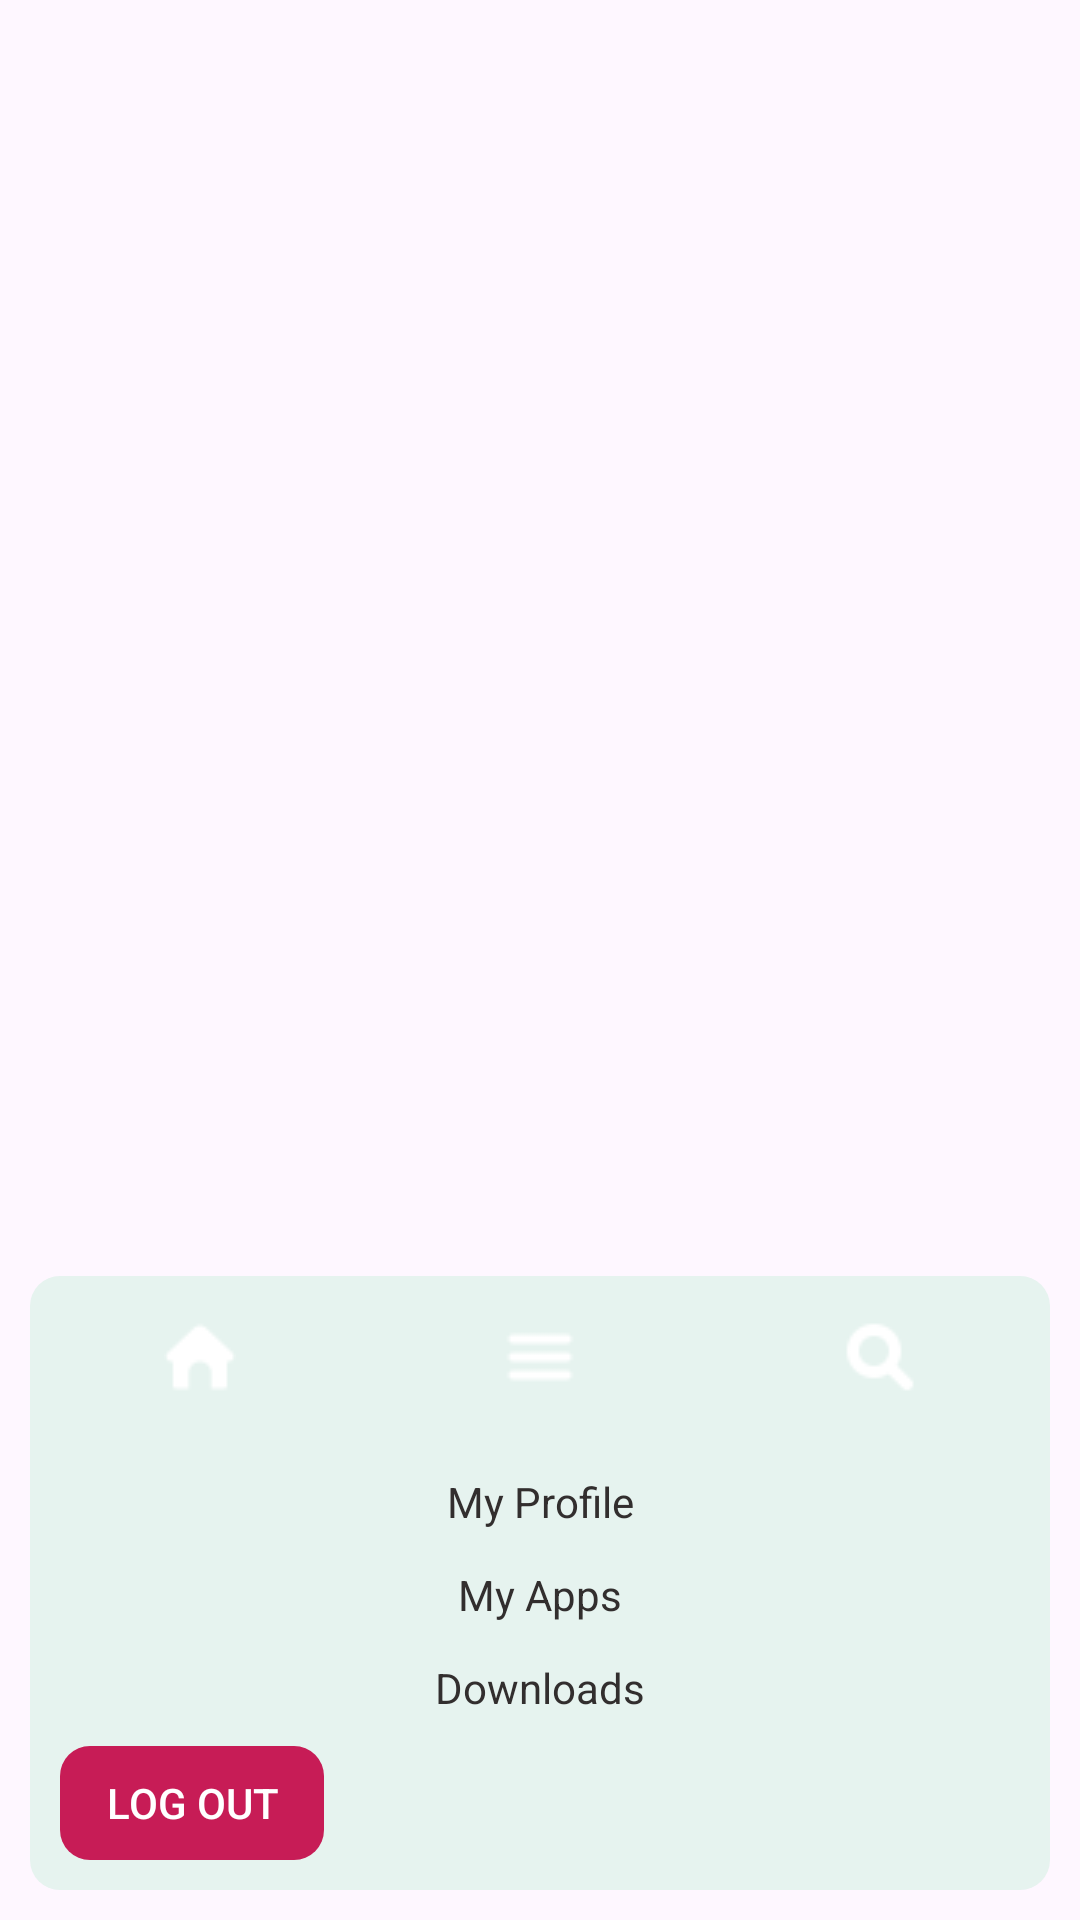

Where to tap for icons on this 1080 x 1920 app screen, as (x,y):
home: (200,1357)
menu: (540,1357)
search: (879,1356)
